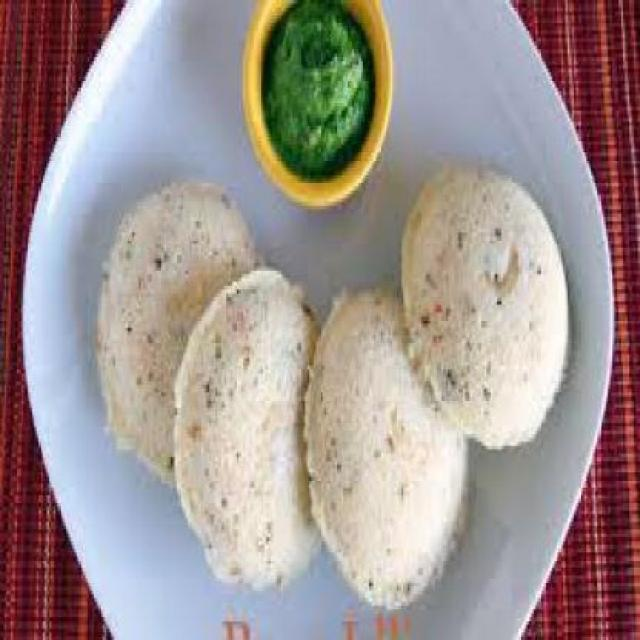idli: (306, 286, 468, 608), (97, 180, 265, 485), (175, 269, 323, 588), (402, 165, 568, 449)
